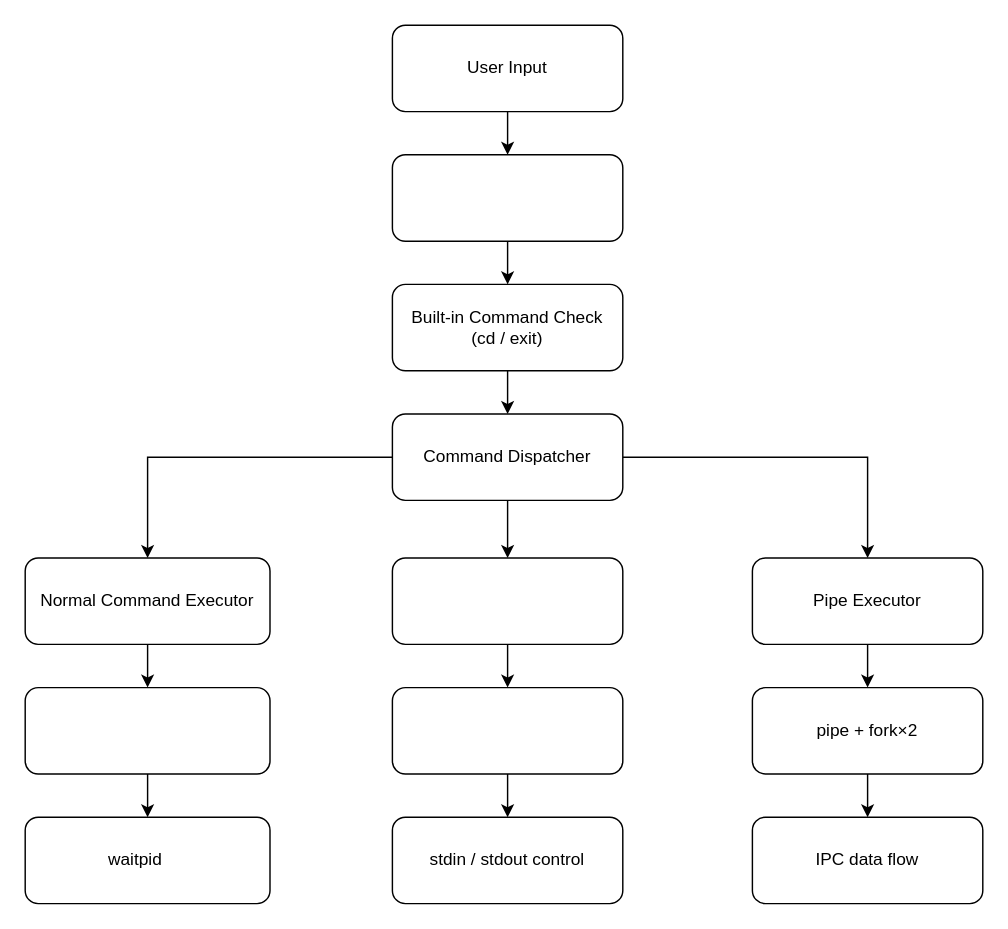
Image size: 1008x929. Some labels were removed from this diagram. Each missing label, with the centre of its shape:
"fork + execvp" goes at pixel 147 730.
"open + dup2 + execvp" goes at pixel 507 730.
"Redirection Executor" goes at pixel 507 600.
"Tokenizer / Parser" goes at pixel 507 197.
